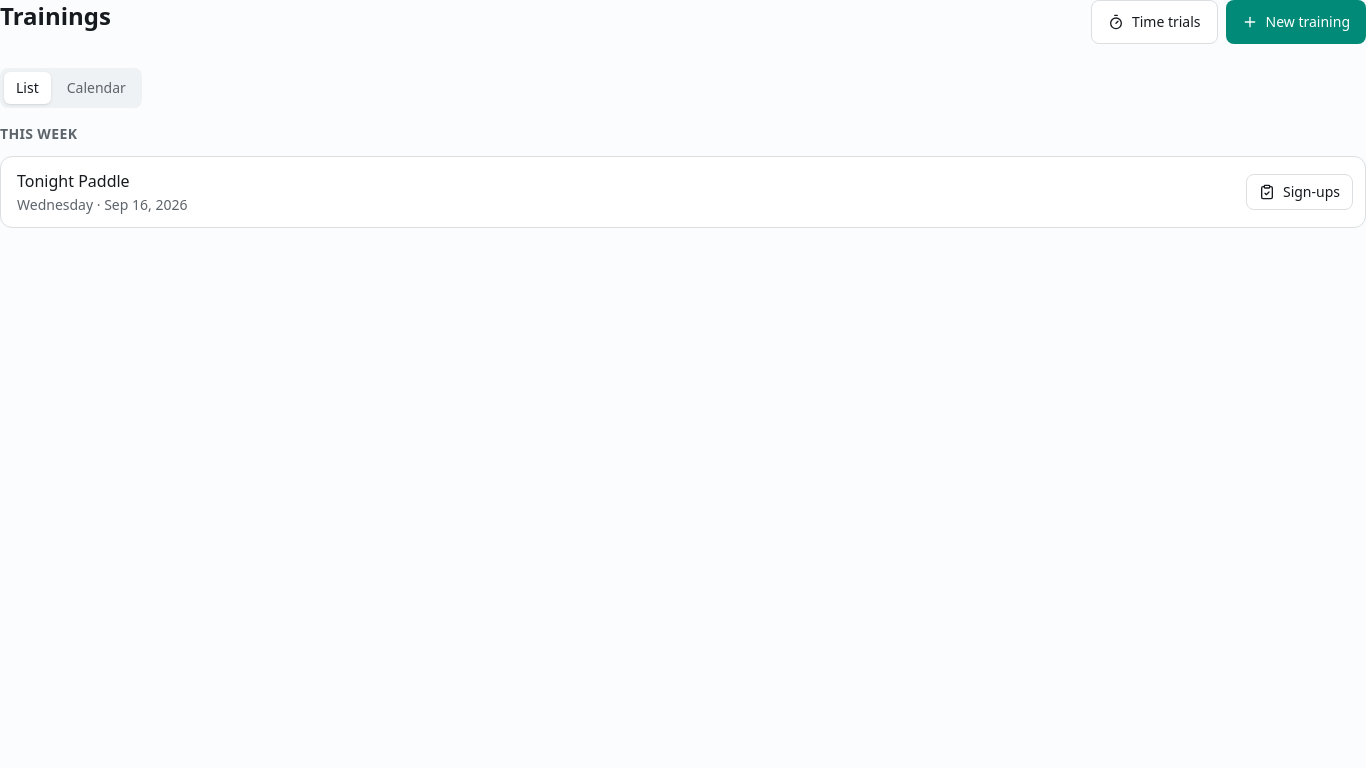
Test: TrainingsPage › pre-selects a practice-like type in the New training form
Expected: the text "Tonight Paddle" is shown, [17,169,130,193]
Click the button "New training": (1296, 22) [1226,0,1365,44]
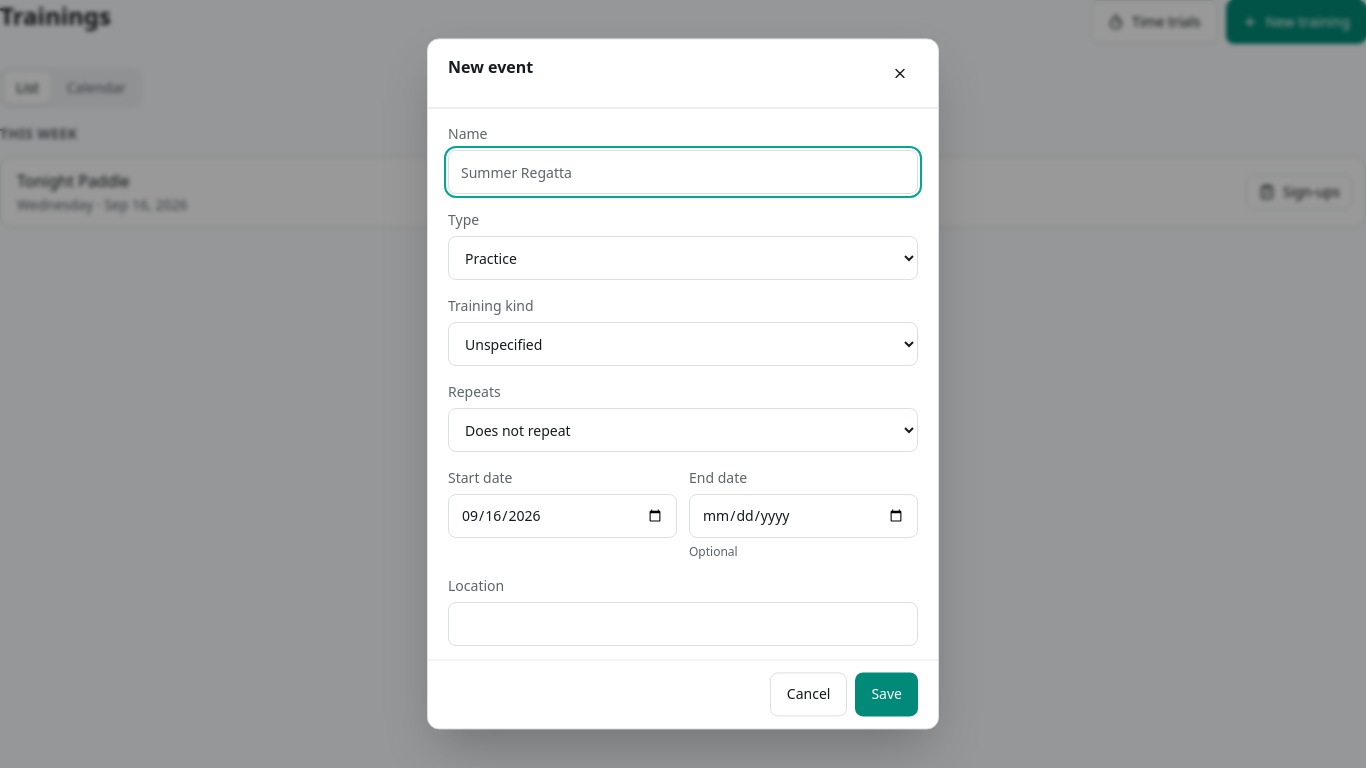
Expected: the dropdown labelled "Type" shows "Practice", [448,236,918,280]
Expected: the dropdown labelled "Training kind" is shown, [448,322,918,366]
